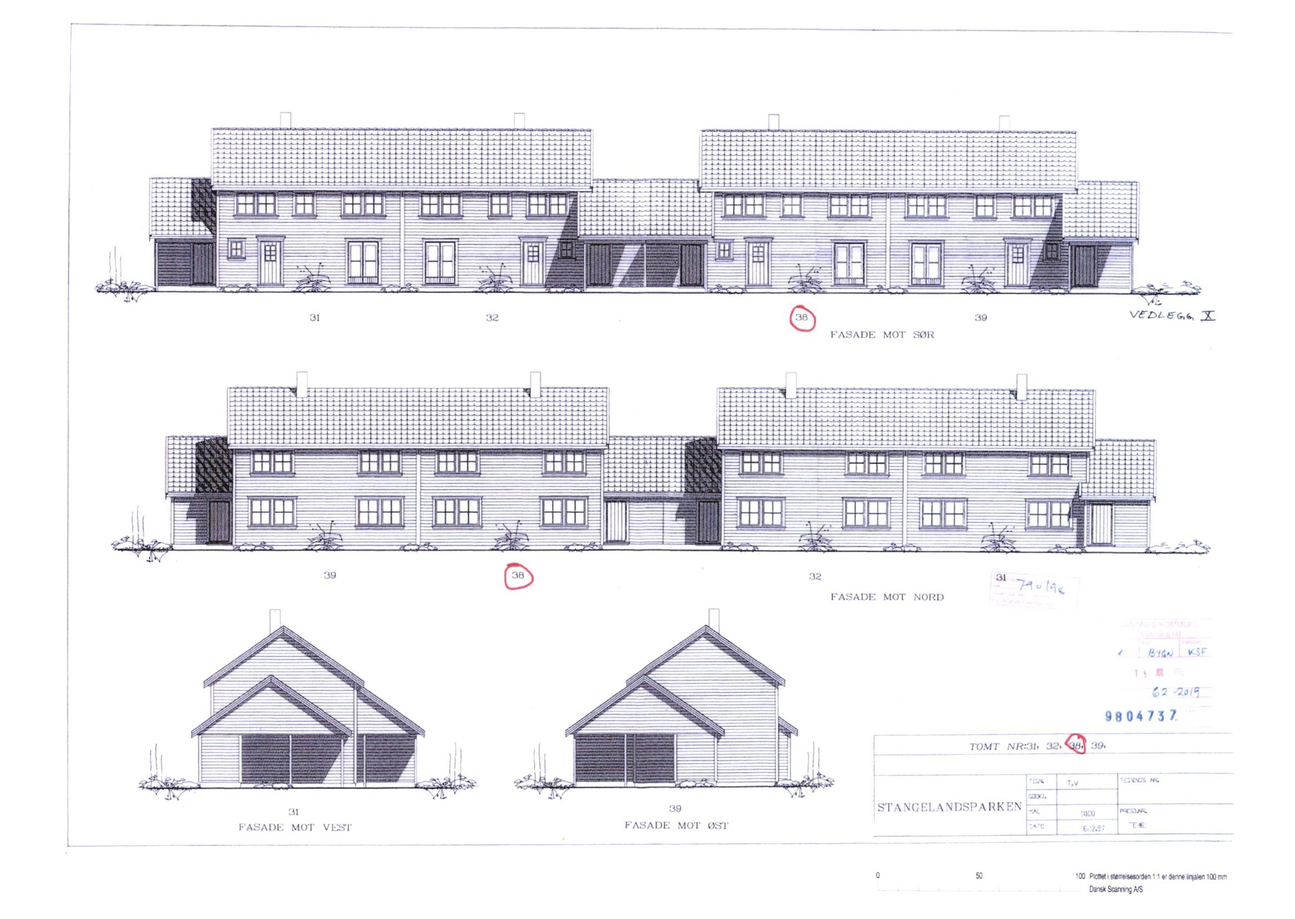fasade: (145, 109, 1145, 305), (160, 370, 1162, 558), (188, 608, 428, 794), (564, 607, 800, 794)
